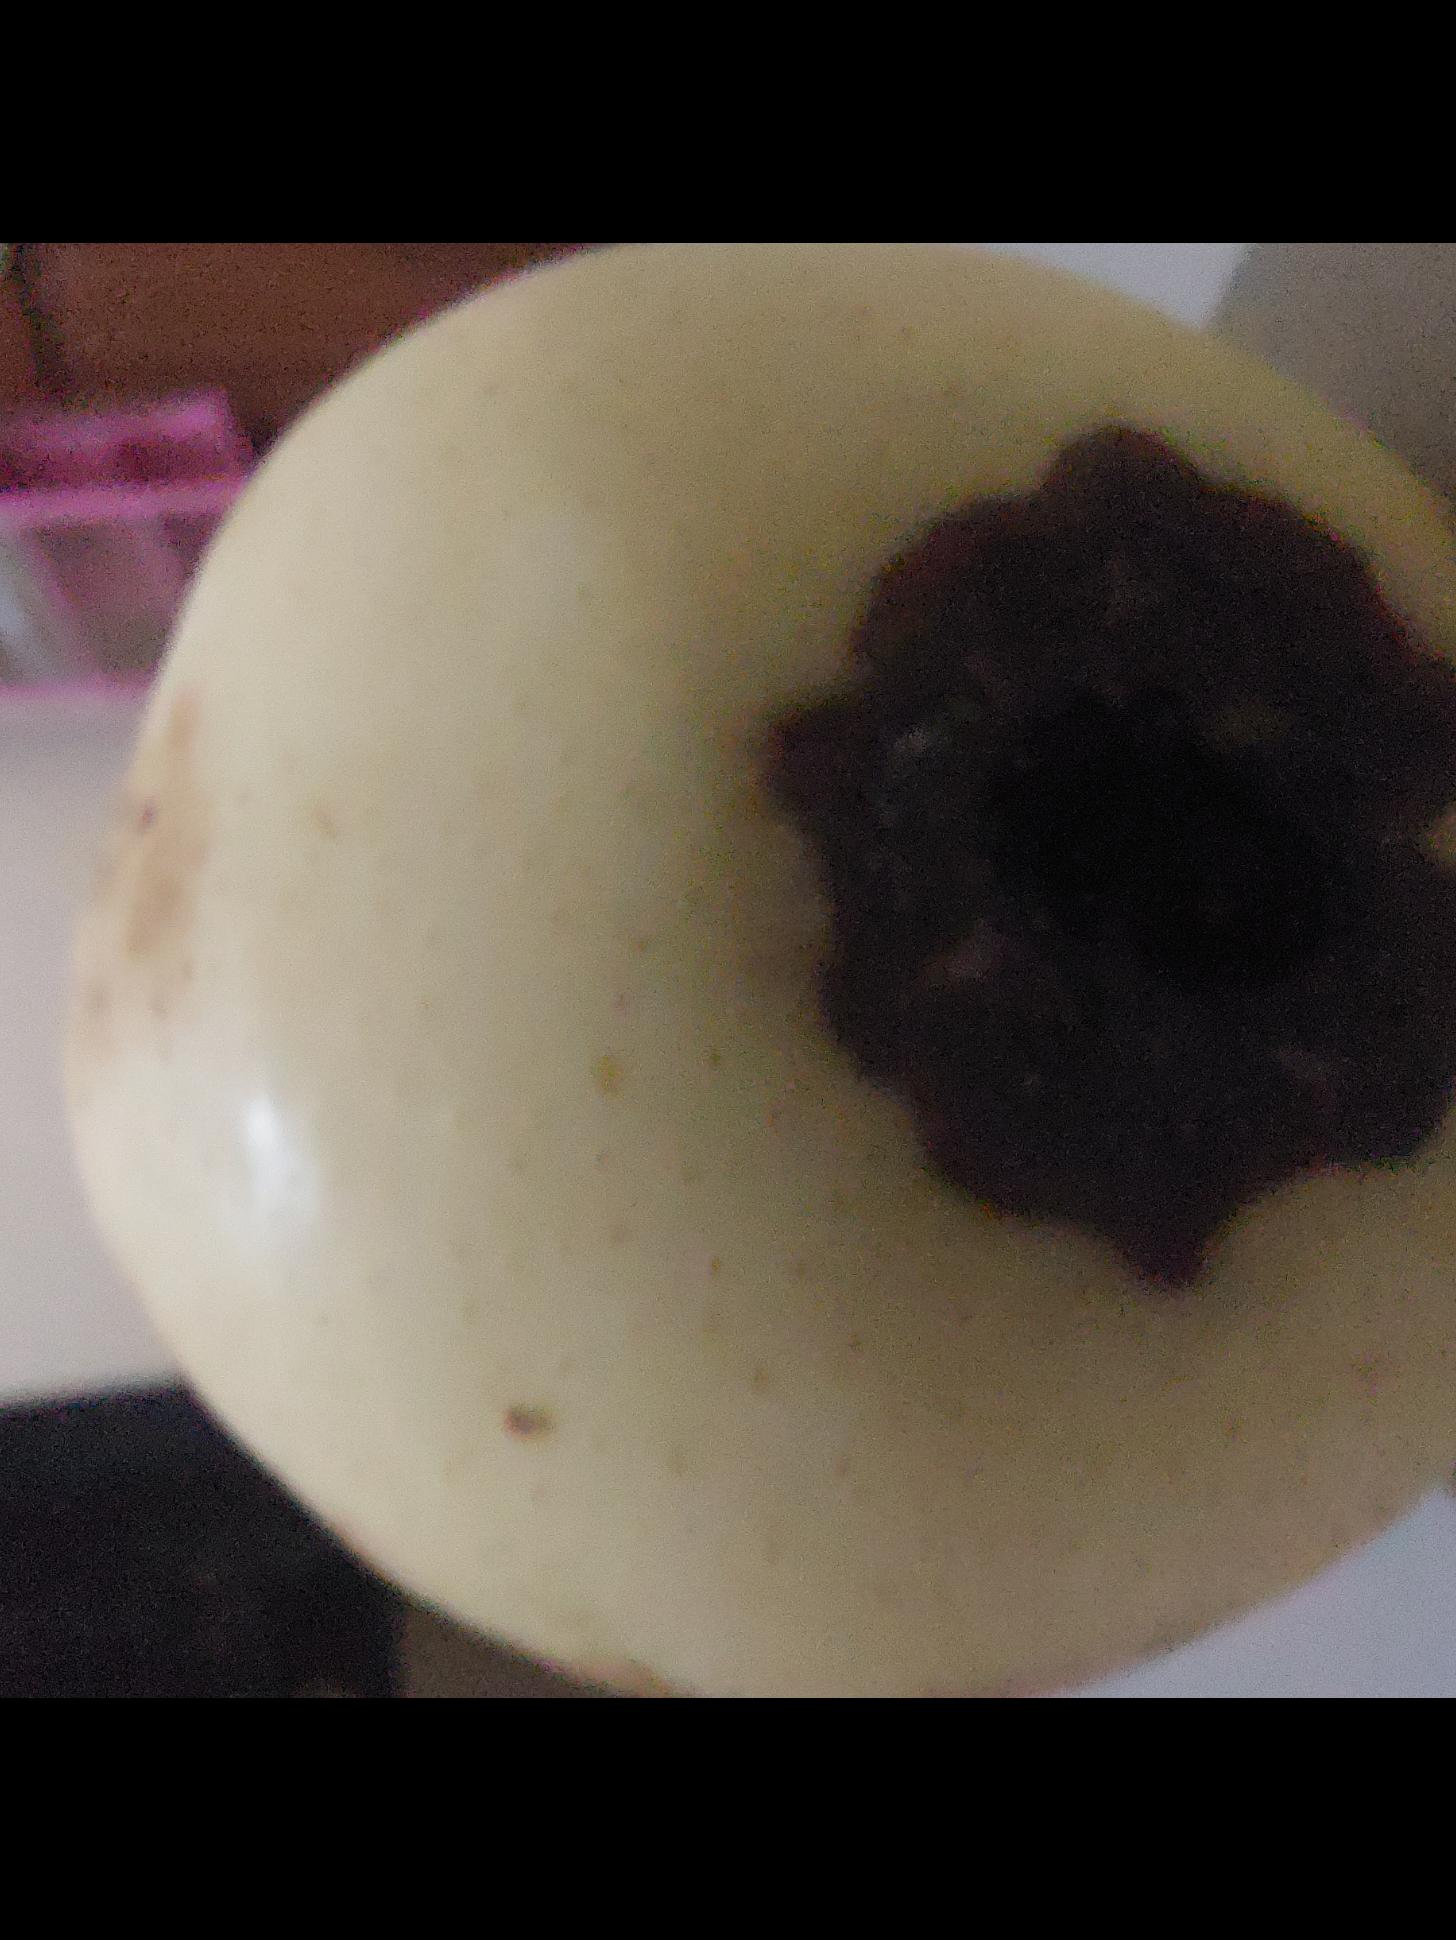Bad Pear: (34, 242, 1456, 1698)
